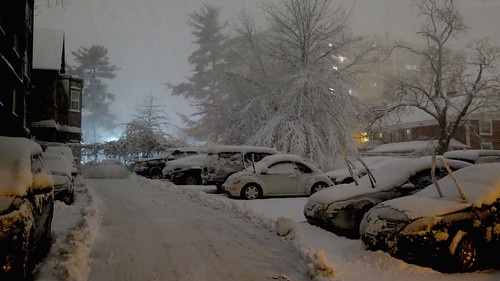building: (1, 17, 81, 220)
car: (374, 169, 500, 268), (297, 158, 464, 229), (221, 154, 337, 198)
tree: (366, 1, 496, 158), (243, 1, 373, 158), (176, 1, 249, 144), (62, 39, 115, 138)
